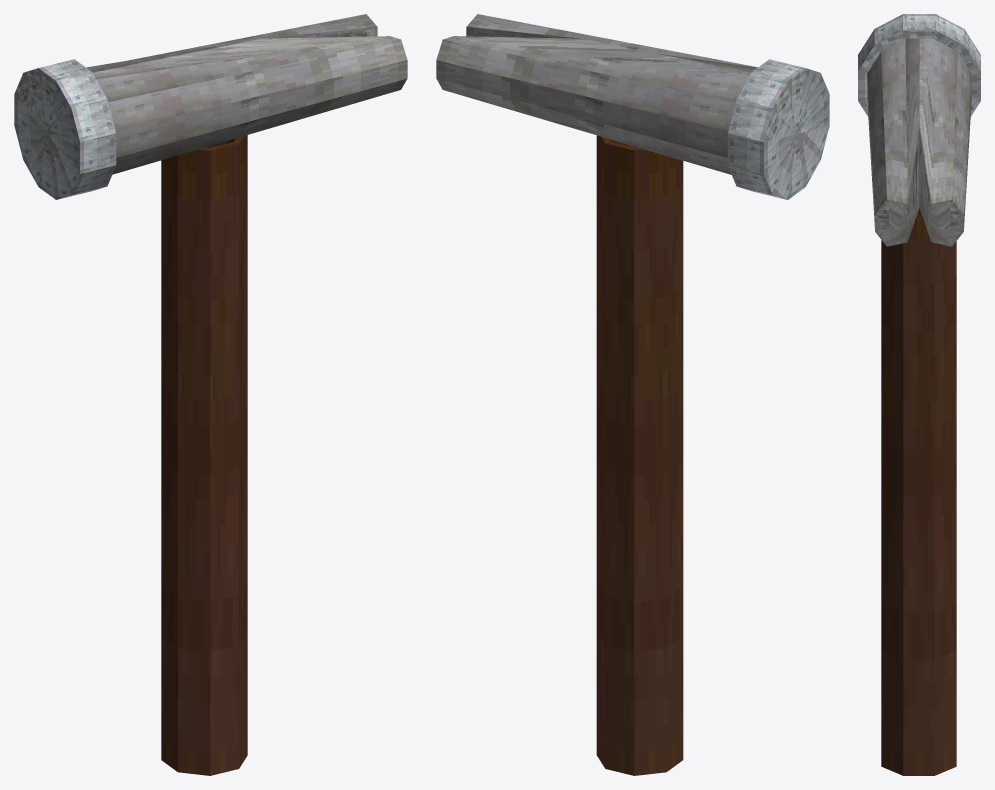
Rendered from Hammer.glb.
The picture shows the model from 3 angles, left to right: view 1: azimuth 30°, elevation 25°; view 2: azimuth 150°, elevation 25°; view 3: azimuth 270°, elevation 25°; orthographic projection. The views are drawn at different scales.
Parts seen in each view (by area): view 1: Image_1 (1)_1; view 2: Image_1 (1)_1; view 3: Image_1 (1)_1.
Boxes of the visible parts, x1,y1,x2,y2 form: Image_1 (1)_1: [14, 14, 407, 775]; Image_1 (1)_1: [436, 14, 829, 775]; Image_1 (1)_1: [858, 14, 980, 775].
Bounding box in the file's own units: 1.16 × 2.38 × 0.3937.
Materials: 3 (3 with a texture image).
